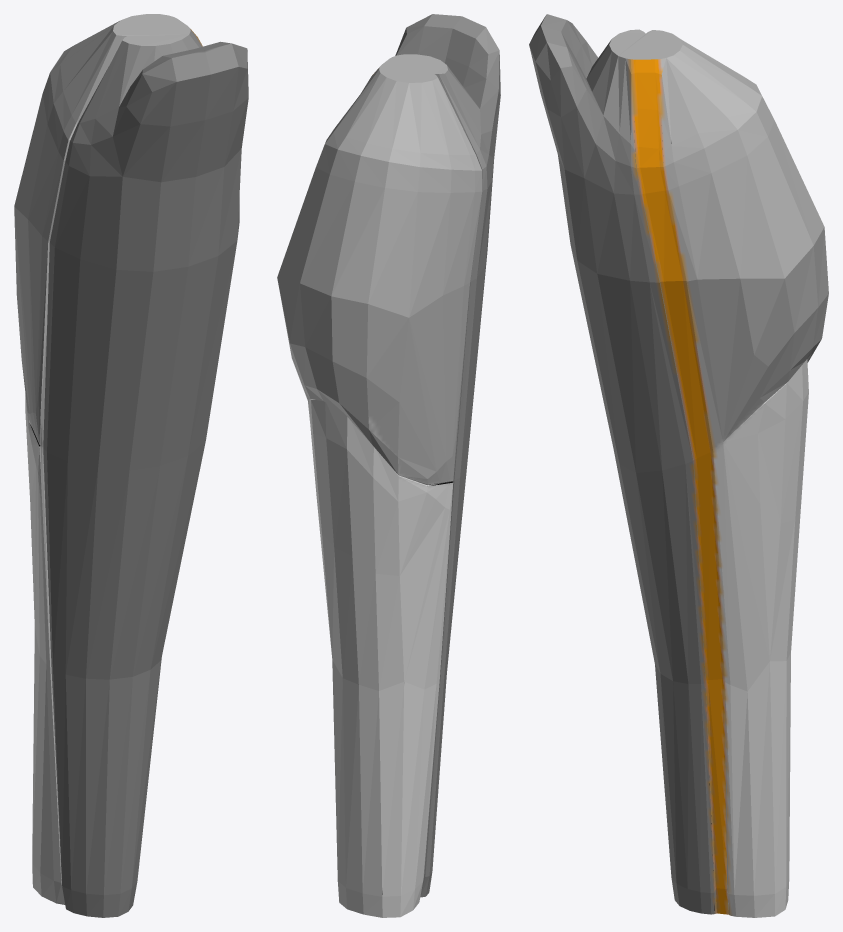
The model's file is LeftLowerLeg.obj.
3 renders of one model, left to right at view 1: azimuth 30°, elevation 25°; view 2: azimuth 150°, elevation 25°; view 3: azimuth 270°, elevation 25°, orthographic. The views are drawn at different scales.
Visible parts, largest first — view 1: LeftLowerLeg_Mesh.029; view 2: LeftLowerLeg_Mesh.029; view 3: LeftLowerLeg_Mesh.029.
Part boxes in pixels (bbox=[...]): LeftLowerLeg_Mesh.029: bbox=[14, 14, 248, 917]; LeftLowerLeg_Mesh.029: bbox=[277, 14, 500, 917]; LeftLowerLeg_Mesh.029: bbox=[529, 14, 828, 917].
Bounding box in the file's own units: 0.0914 × 0.4475 × 0.1378.
1 material, 1 textured.
